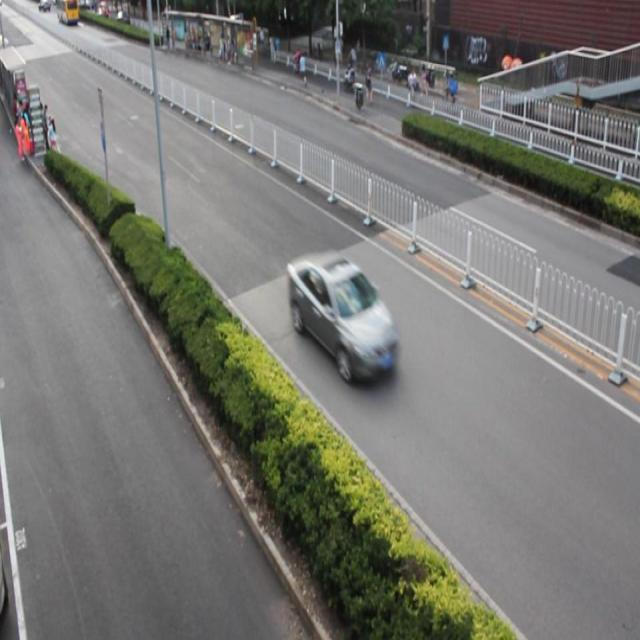car: (288, 253, 398, 386)
